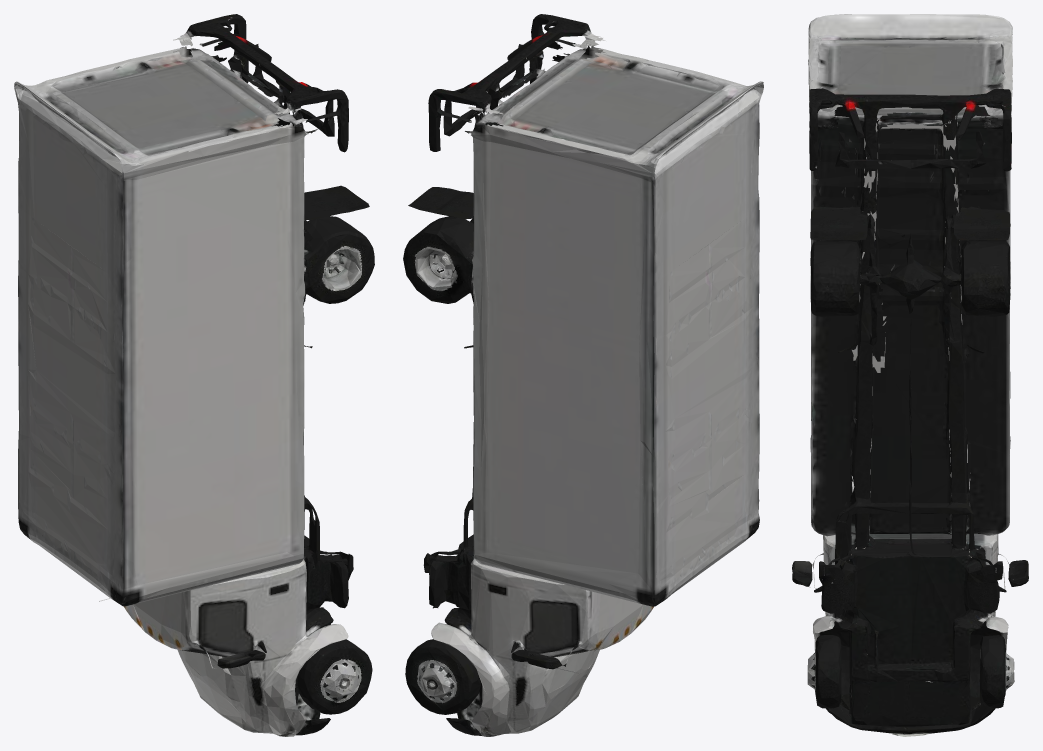
File: truck.glb
3 renders of one model, left to right at view 1: azimuth 30°, elevation 25°; view 2: azimuth 150°, elevation 25°; view 3: azimuth 270°, elevation 25°, orthographic. The views are drawn at different scales.
Visible parts, largest first — view 1: tripo_part_0, tripo_part_3, tripo_part_4, tripo_part_17, tripo_part_9, tripo_part_22, tripo_part_25, tripo_part_19, tripo_part_24, tripo_part_10; view 2: tripo_part_0, tripo_part_3, tripo_part_4, tripo_part_9, tripo_part_16, tripo_part_21, tripo_part_23, tripo_part_18, tripo_part_24, tripo_part_2; view 3: tripo_part_0, tripo_part_3, tripo_part_10, tripo_part_4, tripo_part_9, tripo_part_16, tripo_part_17, tripo_part_22, tripo_part_21, tripo_part_23, tripo_part_19, tripo_part_25 (+8 smaller).
Part boxes in pixels (bbox=[...]): tripo_part_0: bbox=[14, 46, 317, 606]; tripo_part_3: bbox=[99, 535, 333, 687]; tripo_part_4: bbox=[177, 624, 348, 736]; tripo_part_17: bbox=[304, 216, 374, 303]; tripo_part_9: bbox=[173, 14, 348, 152]; tripo_part_22: bbox=[297, 639, 372, 714]; tripo_part_25: bbox=[306, 551, 353, 610]; tripo_part_19: bbox=[304, 185, 369, 219]; tripo_part_24: bbox=[253, 44, 334, 136]; tripo_part_10: bbox=[303, 436, 328, 562]; tripo_part_0: bbox=[465, 43, 763, 606]; tripo_part_3: bbox=[444, 534, 653, 698]; tripo_part_4: bbox=[431, 624, 599, 736]; tripo_part_9: bbox=[428, 14, 605, 151]; tripo_part_16: bbox=[403, 216, 473, 303]; tripo_part_21: bbox=[405, 639, 480, 714]; tripo_part_23: bbox=[423, 545, 472, 610]; tripo_part_18: bbox=[408, 187, 473, 219]; tripo_part_24: bbox=[443, 44, 524, 136]; tripo_part_2: bbox=[511, 650, 567, 669]; tripo_part_0: bbox=[808, 14, 1012, 536]; tripo_part_3: bbox=[814, 492, 1006, 705]; tripo_part_10: bbox=[832, 212, 974, 562]; tripo_part_4: bbox=[813, 613, 1008, 736]; tripo_part_9: bbox=[809, 88, 1011, 171]; tripo_part_16: bbox=[940, 240, 1010, 316]; tripo_part_17: bbox=[810, 241, 869, 317]; tripo_part_22: bbox=[807, 635, 841, 708]; tripo_part_21: bbox=[979, 635, 1014, 708]; tripo_part_23: bbox=[963, 547, 1002, 613]; tripo_part_19: bbox=[810, 204, 867, 240]; tripo_part_25: bbox=[819, 551, 857, 613].
Size of the model in its own units: 0.4111 by 0.995 by 0.3409.
Materials: 27 (27 with a texture image).
